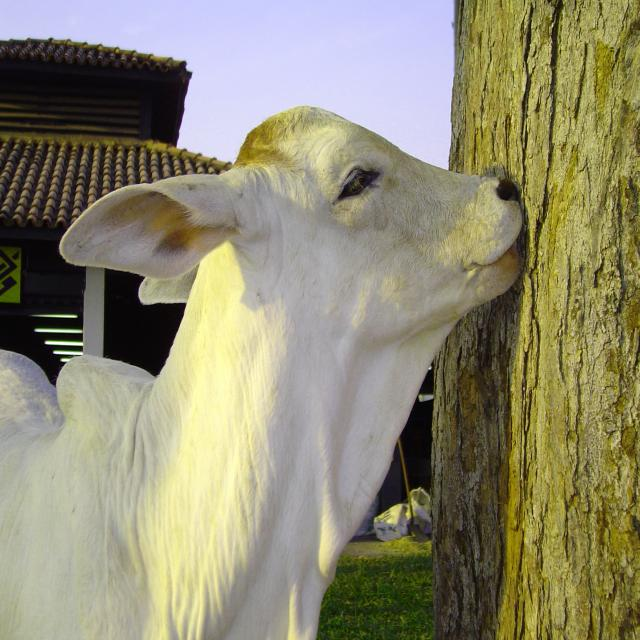cow: (0, 107, 521, 638)
